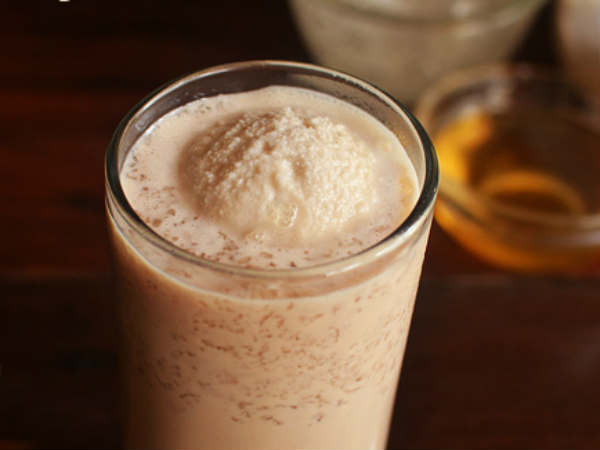jigirthanda: (128, 100, 398, 450)
